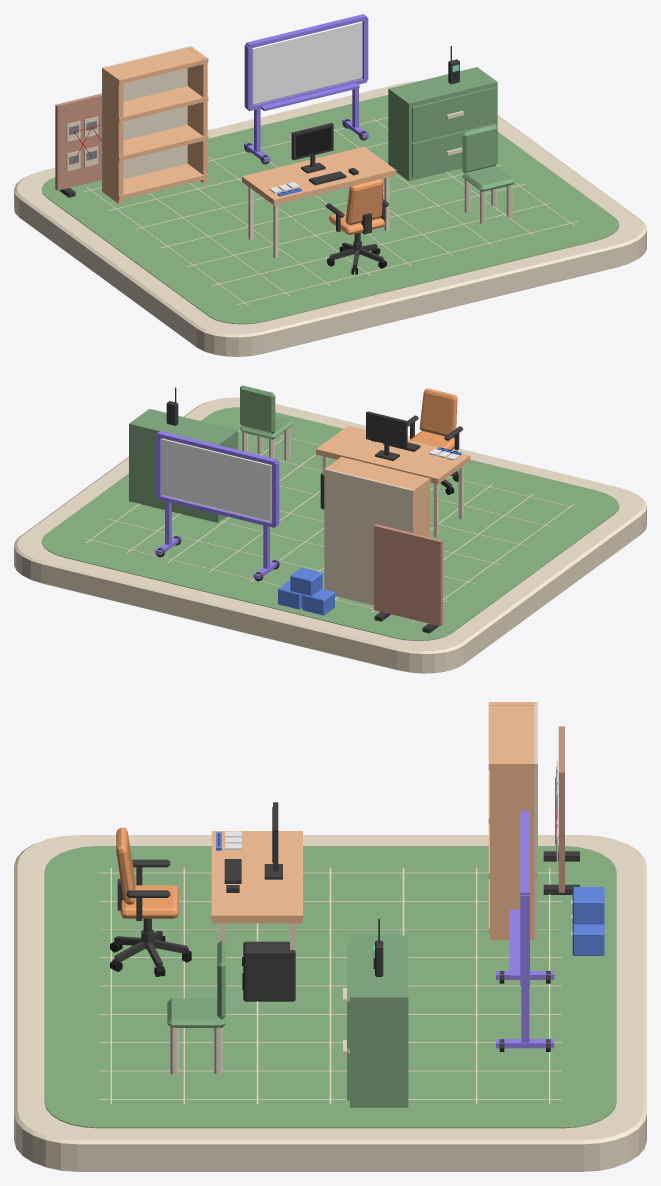
File: room.fbx
The picture shows the model from 3 angles, top to bottom: view 1: azimuth 30°, elevation 25°; view 2: azimuth 150°, elevation 25°; view 3: azimuth 270°, elevation 25°; orthographic projection. The views are drawn at different scales.
Parts seen in each view (by area): view 1: COM-02 Floor Surface, COM-01 Rounded Base Direct, Cabinet, Writing surface, Top, Back, Panel, COM-04_Chair_blender_direct, Side, Side.001, Shelf.003, Shelf.002 (+8 smaller); view 2: COM-02 Floor Surface, COM-01 Rounded Base Direct, Back, Writing surface, Panel, Cabinet, Top, COM-04_Chair_blender_direct, Backrest, Frame, Shelf.003, Frame rail.001 (+7 smaller); view 3: COM-02 Floor Surface, COM-01 Rounded Base Direct, Cabinet, Top, Side.001, COM-04_Chair_blender_direct, Tower, Shelf.003, Seat, Stacked case.002, Panel, Stacked case.001 (+9 smaller).
Part boxes in pixels (x1,y1,x2,y2): COM-02 Floor Surface: (41, 95, 619, 324); COM-01 Rounded Base Direct: (14, 81, 646, 356); Cabinet: (388, 67, 497, 180); Writing surface: (252, 21, 362, 105); Top: (242, 146, 396, 258); Back: (102, 46, 191, 192); Panel: (55, 93, 101, 190); COM-04_Chair_blender_direct: (325, 179, 388, 274); Side: (103, 67, 123, 203); Side.001: (187, 47, 207, 183); Shelf.003: (102, 48, 208, 84); Shelf.002: (102, 86, 208, 122); COM-02 Floor Surface: (41, 407, 619, 640); COM-01 Rounded Base Direct: (14, 397, 646, 673); Back: (324, 469, 414, 605); Writing surface: (161, 438, 271, 521); Panel: (374, 524, 442, 626); Cabinet: (129, 408, 238, 522); Top: (316, 425, 470, 537); COM-04_Chair_blender_direct: (407, 388, 463, 494); Backrest: (240, 385, 275, 433); Frame: (366, 411, 407, 460); Shelf.003: (330, 457, 430, 494); Frame rail.001: (157, 431, 277, 464); COM-02 Floor Surface: (44, 846, 616, 1128); COM-01 Rounded Base Direct: (14, 835, 646, 1171); Cabinet: (343, 935, 408, 1107); Top: (211, 831, 302, 950); Side.001: (490, 760, 536, 940); COM-04_Chair_blender_direct: (110, 827, 191, 976); Tower: (243, 941, 295, 1001); Shelf.003: (488, 702, 537, 770); Seat: (167, 998, 225, 1027); Stacked case.002: (572, 887, 604, 924); Panel: (558, 726, 564, 892); Stacked case.001: (572, 923, 604, 955).
Size of the model in its own units: 600 by 190 by 520.
